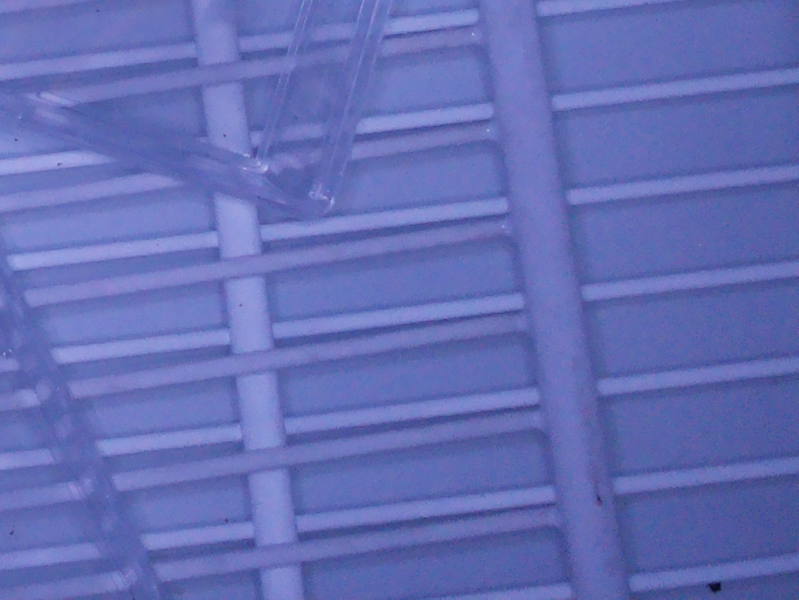plate: (1, 1, 399, 223), (1, 251, 169, 600)
